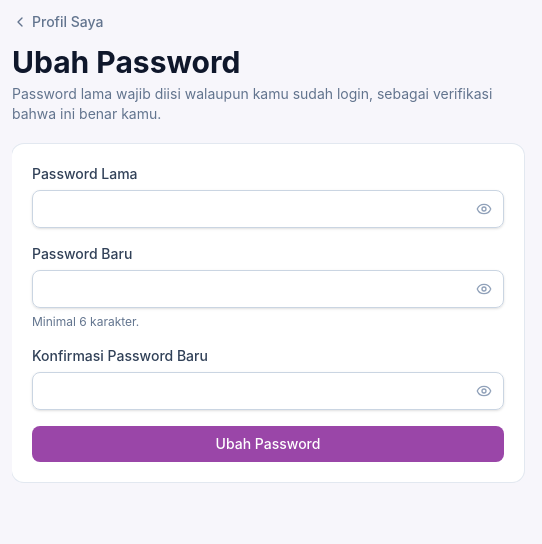
ChangePasswordPage › menampilkan semua error wajib saat form kosong
Expected: the password field labelled "Password Lama" is shown, [32,190,504,228]
Click the button "Ubah Password" at (268, 444), box [32,426,504,462]
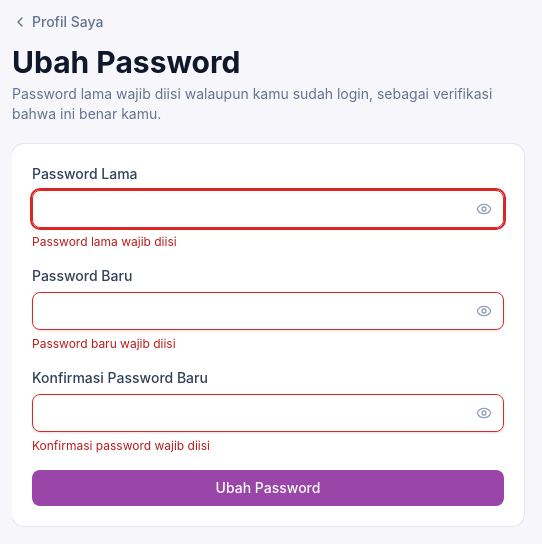
Now the text "Password lama wajib diisi" is shown, box [32,234,177,249]
Now the text "Password baru wajib diisi" is shown, box [32,336,176,351]
Now the text "Konfirmasi password wajib diisi" is shown, box [32,438,210,453]
